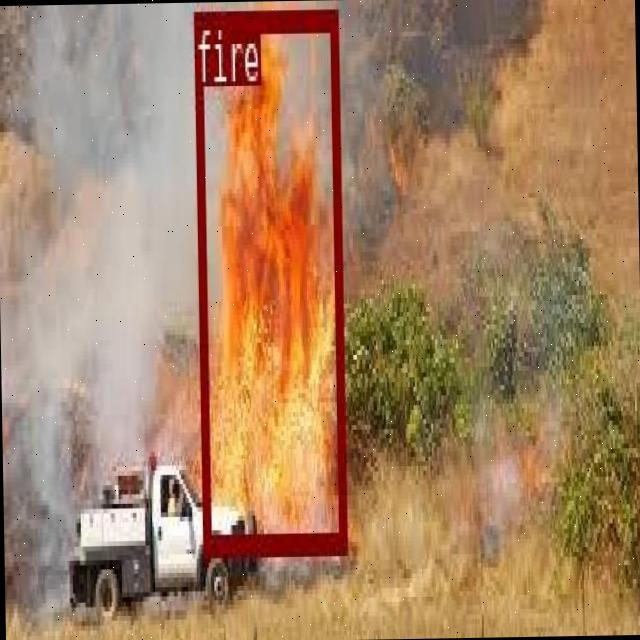fire: (194, 7, 345, 551)
